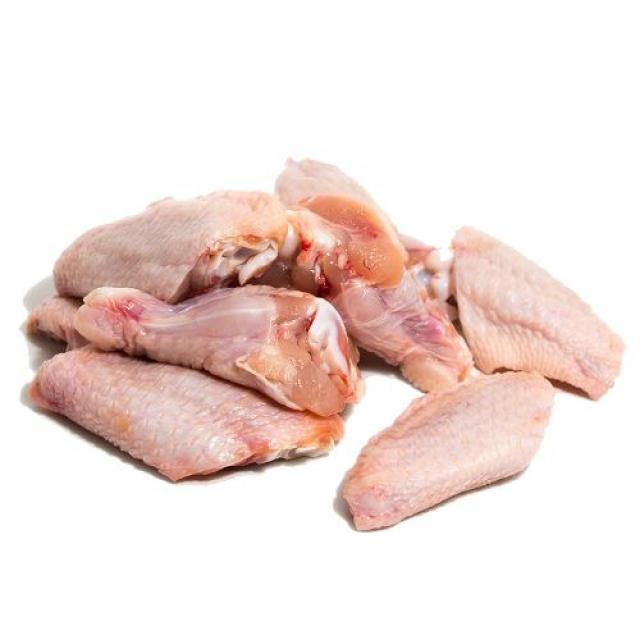chicken: (10, 154, 628, 519), (28, 349, 344, 491), (74, 283, 371, 417), (423, 224, 623, 399), (341, 373, 552, 530), (52, 186, 294, 307)
